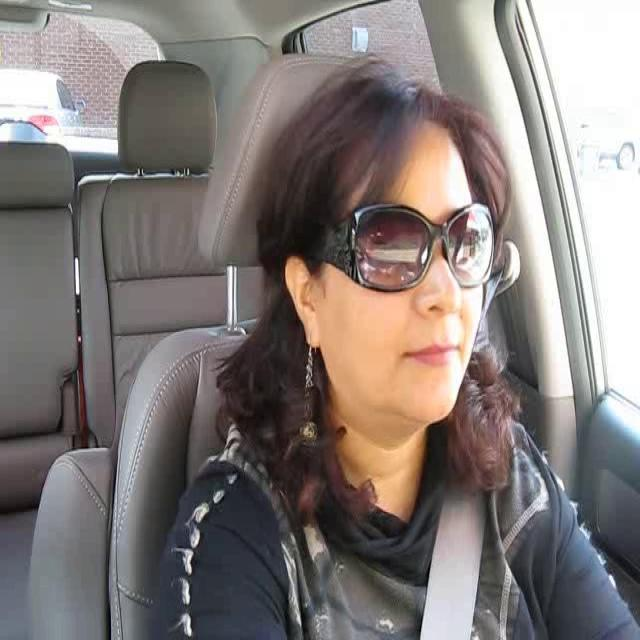close: (397, 332, 467, 376)
